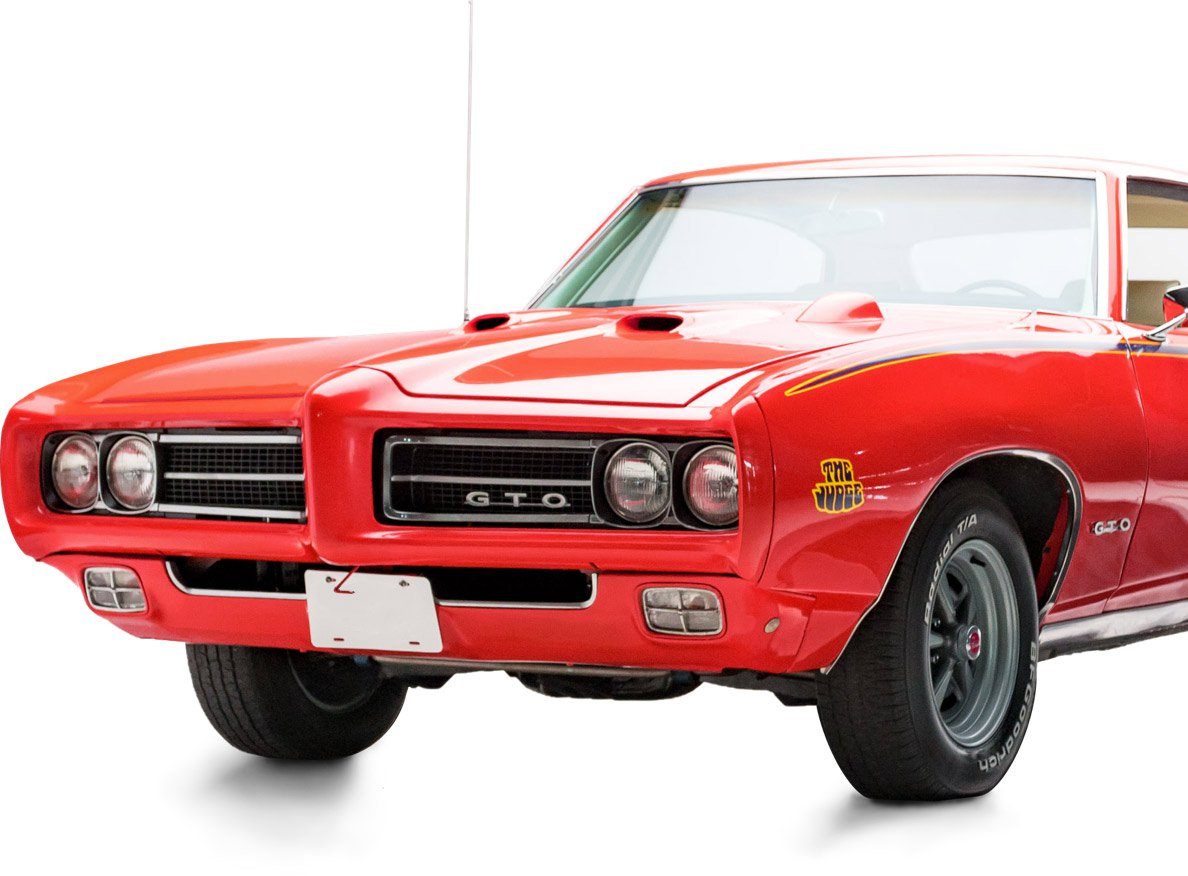car: (24, 150, 1187, 794)
